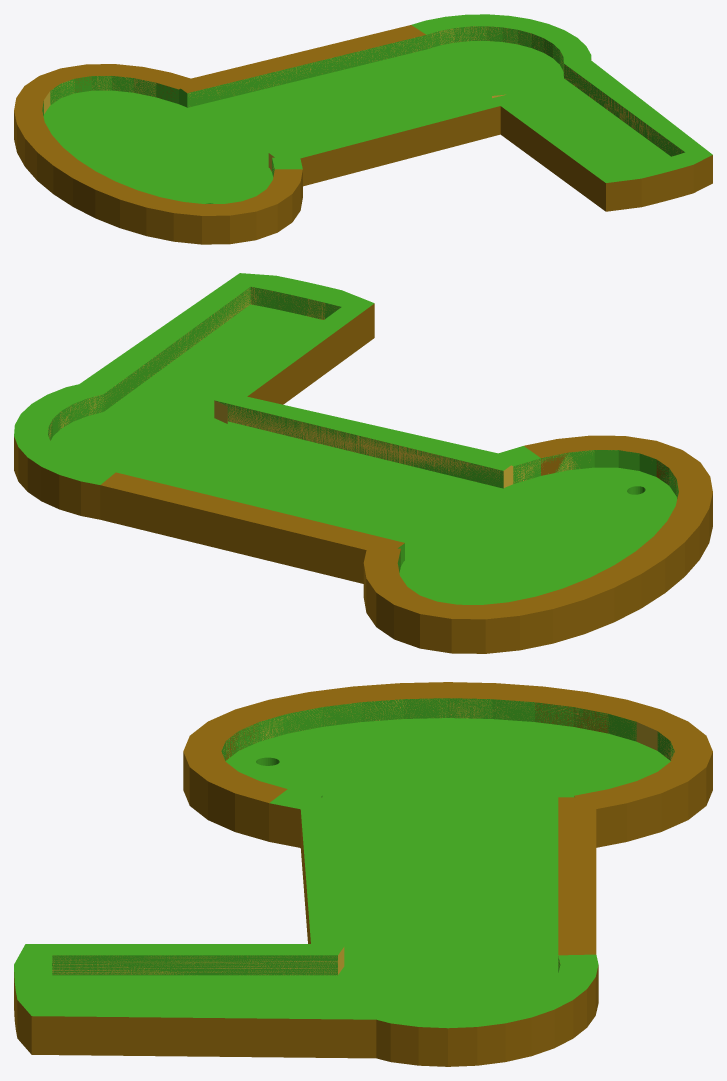
File: playgroundLvl4.gltf
3 renders of one model, top to bottom at view 1: azimuth 30°, elevation 25°; view 2: azimuth 150°, elevation 25°; view 3: azimuth 270°, elevation 25°, orthographic. The views are drawn at different scales.
Parts seen in each view (by area): view 1: Circle.001; view 2: Circle.001; view 3: Circle.001.
Boxes of the visible parts, box(x1,y1,x2,y2) form: Circle.001: box(14, 14, 712, 244); Circle.001: box(14, 273, 712, 653); Circle.001: box(14, 682, 712, 1066).
Bounding box in the file's own units: 36.67 × 2.18 × 31.29.
